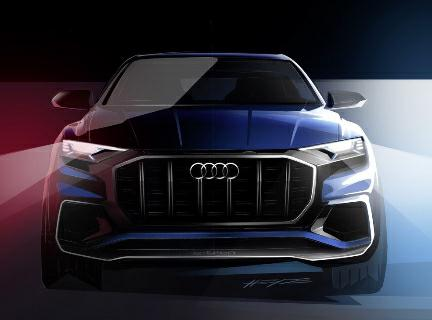奥迪-Q8: (38, 41, 391, 308)
